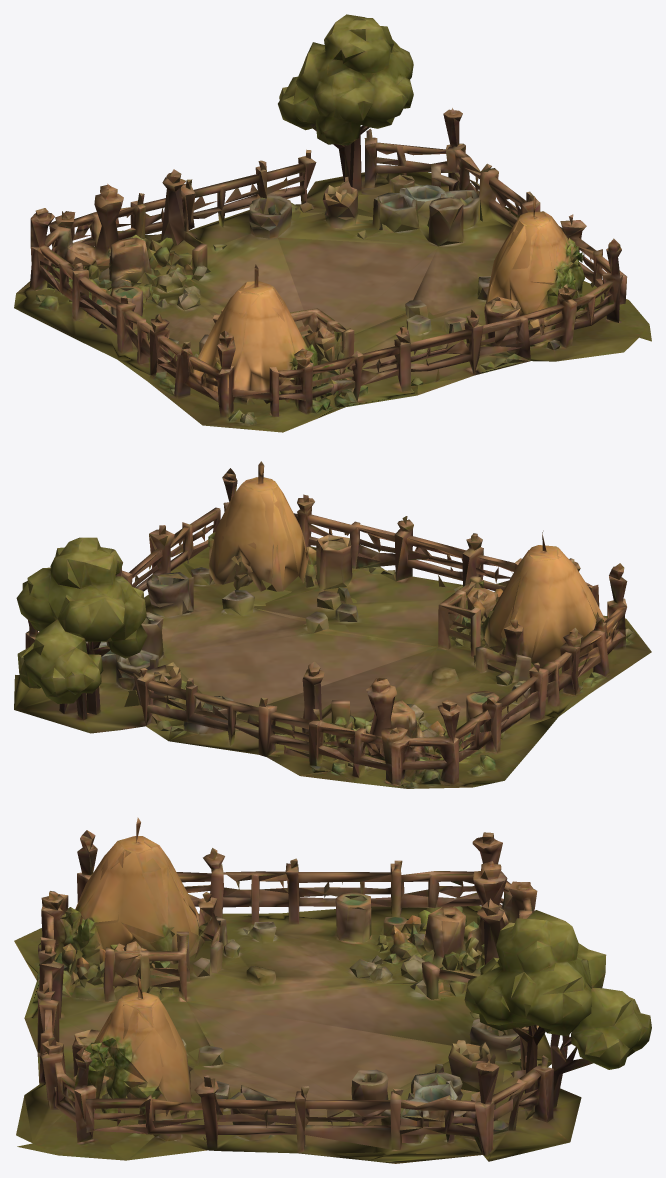
Rendered from farm-hut-terrain.glb.
The picture shows the model from 3 angles, top to bottom: view 1: azimuth 30°, elevation 25°; view 2: azimuth 150°, elevation 25°; view 3: azimuth 270°, elevation 25°; orthographic projection. The views are drawn at different scales.
Parts seen in each view (by area): view 1: output_unwrapped; view 2: output_unwrapped; view 3: output_unwrapped.
Part boxes in pixels (left/top/right/bottom): output_unwrapped: left=14, top=14, right=651, bottom=432; output_unwrapped: left=14, top=461, right=651, bottom=788; output_unwrapped: left=14, top=817, right=651, bottom=1163.
Bounding box in the file's own units: 11.42 × 4 × 11.65.
Materials: 1 (1 with a texture image).
